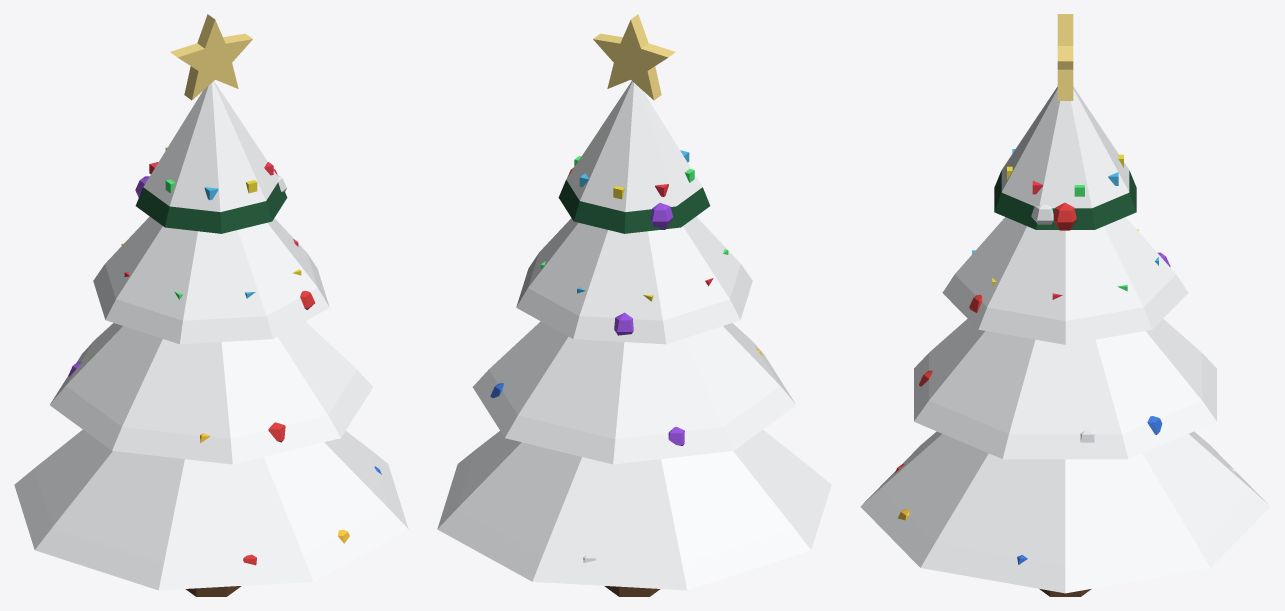
Rendered from SnowyChristmasTree.fbx.
3 renders of one model, left to right at view 1: azimuth 30°, elevation 25°; view 2: azimuth 150°, elevation 25°; view 3: azimuth 270°, elevation 25°, orthographic.
Parts seen in each view (by area): view 1: SnowyChristmasTree; view 2: SnowyChristmasTree; view 3: SnowyChristmasTree.
Part boxes in pixels (x1,y1,x2,y2): SnowyChristmasTree: [14, 14, 408, 596]; SnowyChristmasTree: [437, 14, 831, 596]; SnowyChristmasTree: [860, 14, 1270, 596].
Bounding box in the file's own units: 8 × 12.3 × 8.
1 material, 1 textured.
